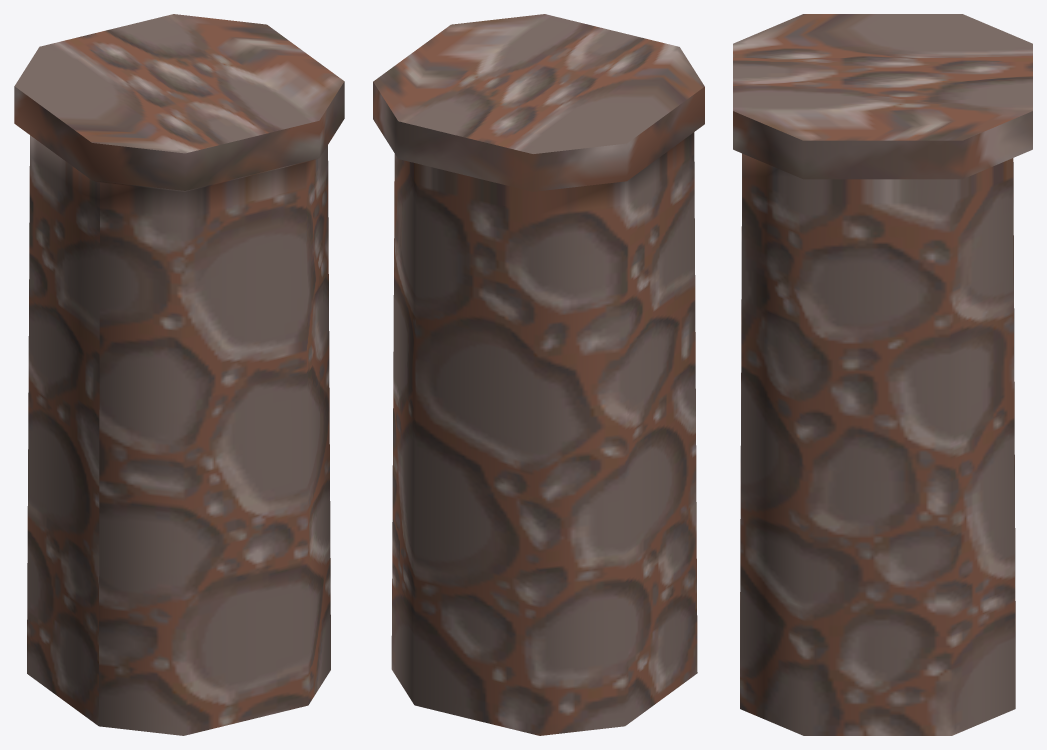
Rendered from CobblestoneFenceHand.fbx.
3 views of the same model, side by side, from view 1: azimuth 30°, elevation 25°; view 2: azimuth 150°, elevation 25°; view 3: azimuth 270°, elevation 25° (orthographic). The views are drawn at different scales.
Visible parts, largest first — view 1: FencePost; view 2: FencePost; view 3: FencePost.
Boxes of the visible parts, <box> form: FencePost: <box>14,14,344,735</box>; FencePost: <box>373,14,704,735</box>; FencePost: <box>733,14,1032,735</box>.
Bounding box in the file's own units: 0.4554 × 1.01 × 0.4554.
